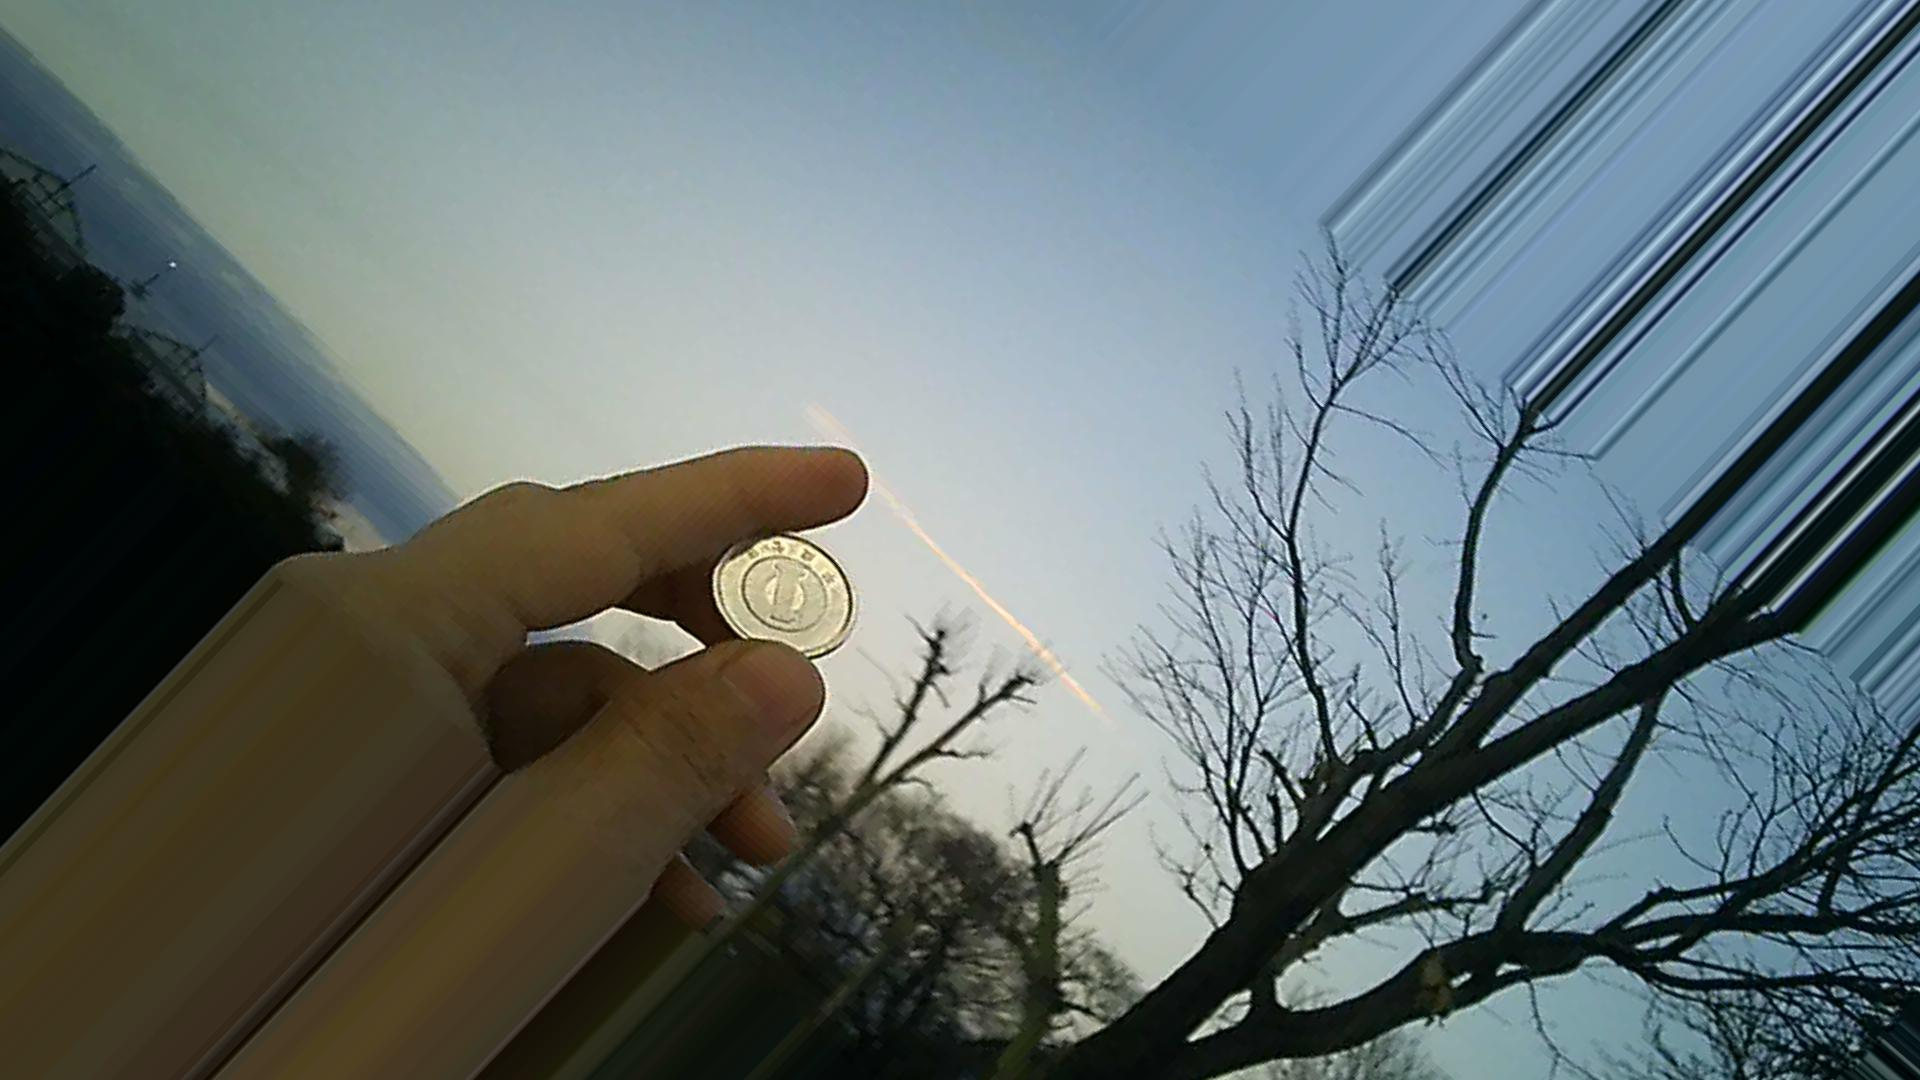1 Yen: (713, 525, 855, 675)
